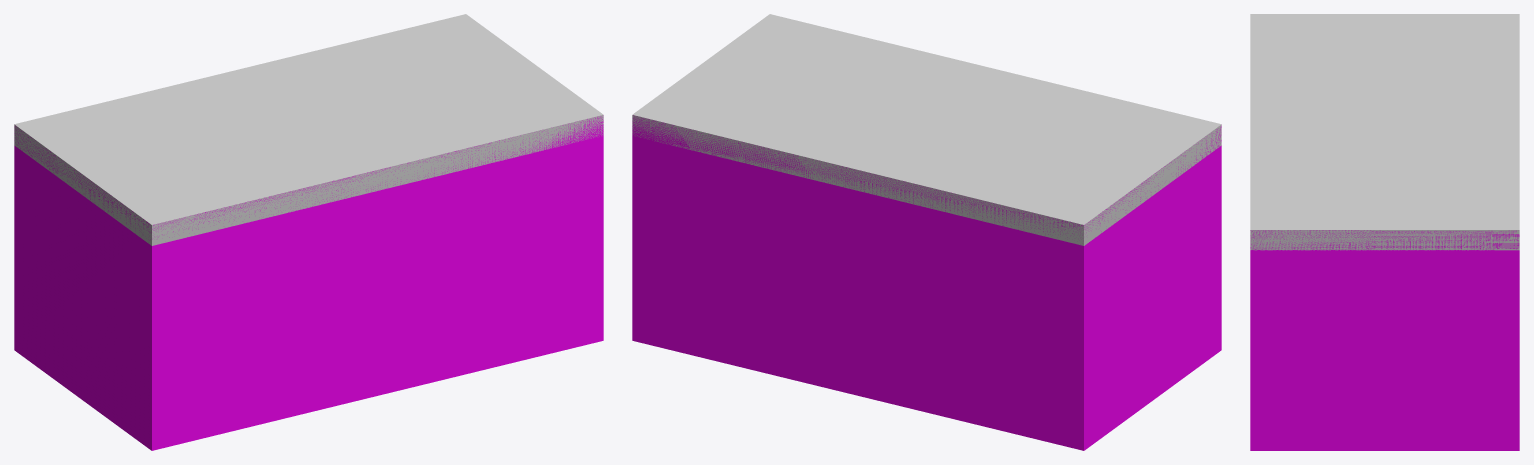
The model's file is table.glb.
3 renders of one model, left to right at view 1: azimuth 30°, elevation 25°; view 2: azimuth 150°, elevation 25°; view 3: azimuth 270°, elevation 25°, orthographic. The views are drawn at different scales.
Visible parts, largest first — view 1: table_hull, table; view 2: table_hull, table; view 3: table, table_hull.
Part boxes in pixels (bbox=[...]): table_hull: bbox=[14, 115, 603, 450]; table: bbox=[14, 14, 603, 245]; table_hull: bbox=[632, 115, 1221, 450]; table: bbox=[632, 14, 1221, 245]; table: bbox=[1250, 14, 1519, 250]; table_hull: bbox=[1250, 230, 1519, 450].
Size of the model in its own units: 1.8 by 0.86 by 0.95.
